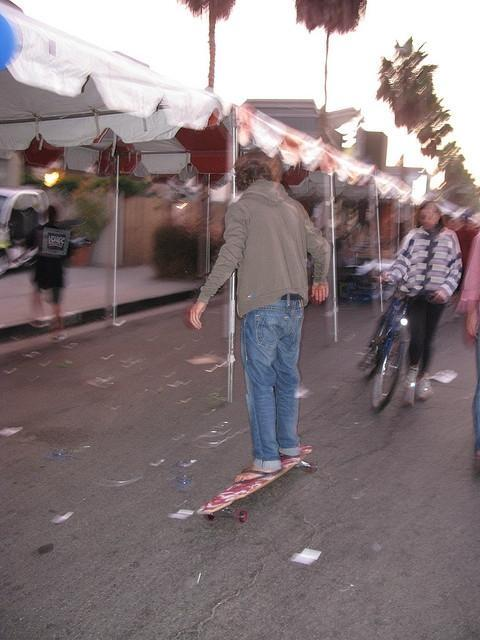bicycle: (359, 278, 418, 414)
